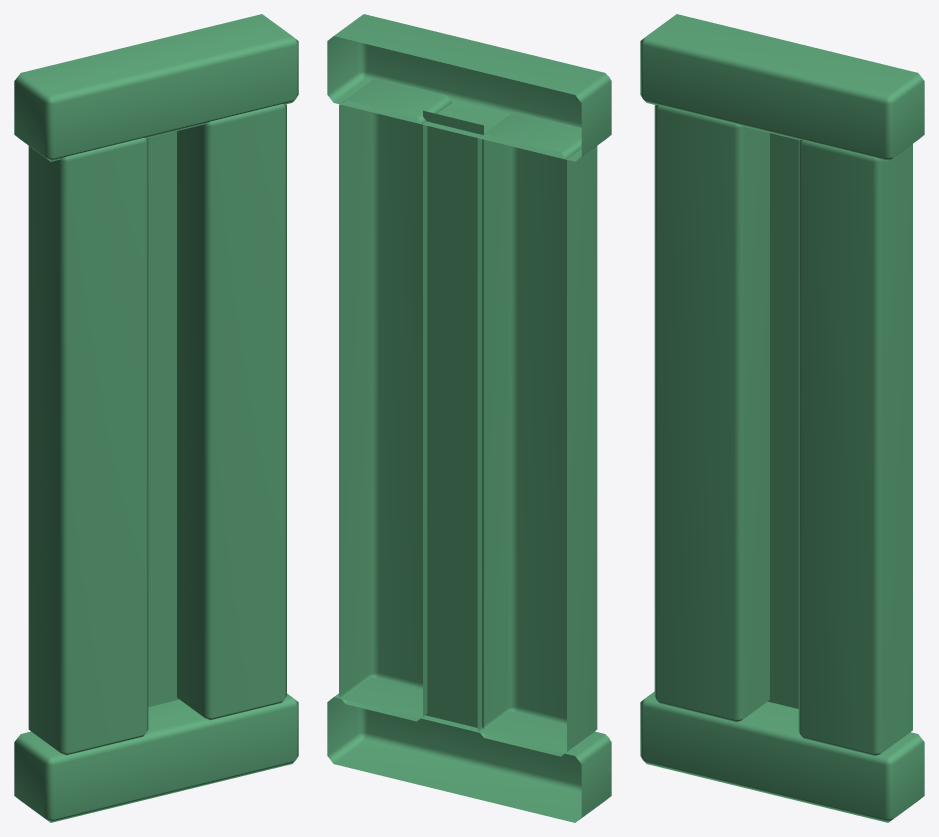
The model's file is SM_Meurtriere.fbx.
3 views of the same model, side by side, from view 1: azimuth 30°, elevation 25°; view 2: azimuth 150°, elevation 25°; view 3: azimuth 330°, elevation 25° (orthographic).
Parts seen in each view (by area): view 1: SM_Meurtriere; view 2: SM_Meurtriere; view 3: SM_Meurtriere.
Part boxes in pixels (left/top/right/bottom): SM_Meurtriere: left=14, top=14, right=298, bottom=822; SM_Meurtriere: left=327, top=14, right=611, bottom=822; SM_Meurtriere: left=640, top=14, right=924, bottom=822.
Bounding box in the file's own units: 0.3942 × 1.08 × 0.0908.
